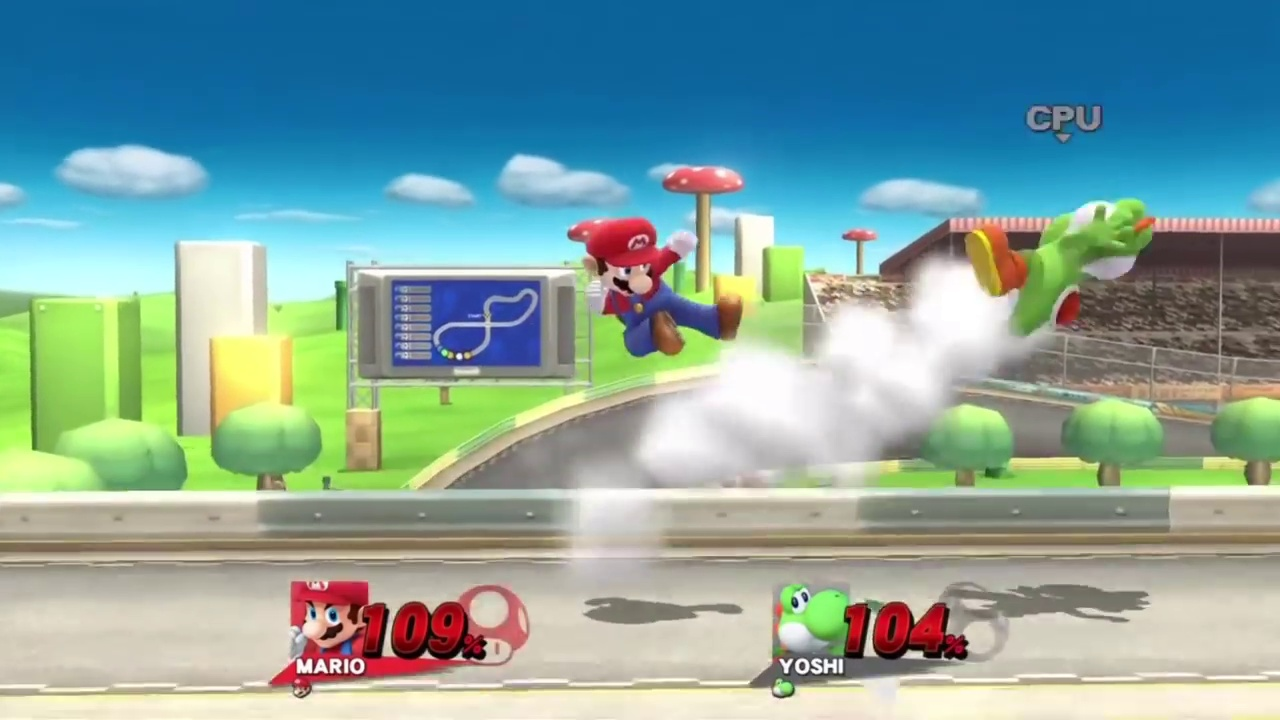Mario: (582, 217, 743, 362)
